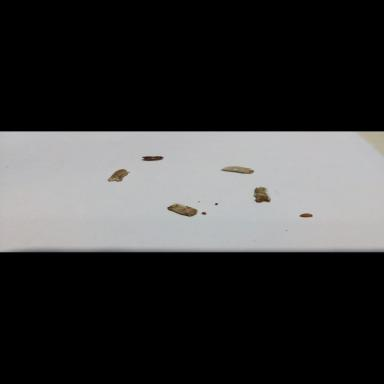pbw: (166, 204, 198, 216), (106, 168, 130, 182), (220, 166, 254, 174), (140, 156, 162, 160)
